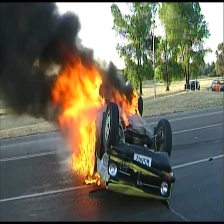fire_h: (51, 48, 104, 174), (109, 85, 141, 125)
fire_l: (85, 172, 101, 186)
